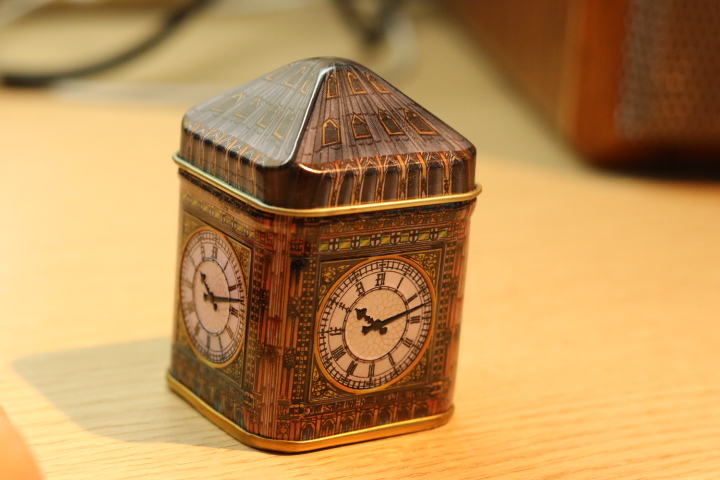Big Ben: (154, 49, 488, 460)
